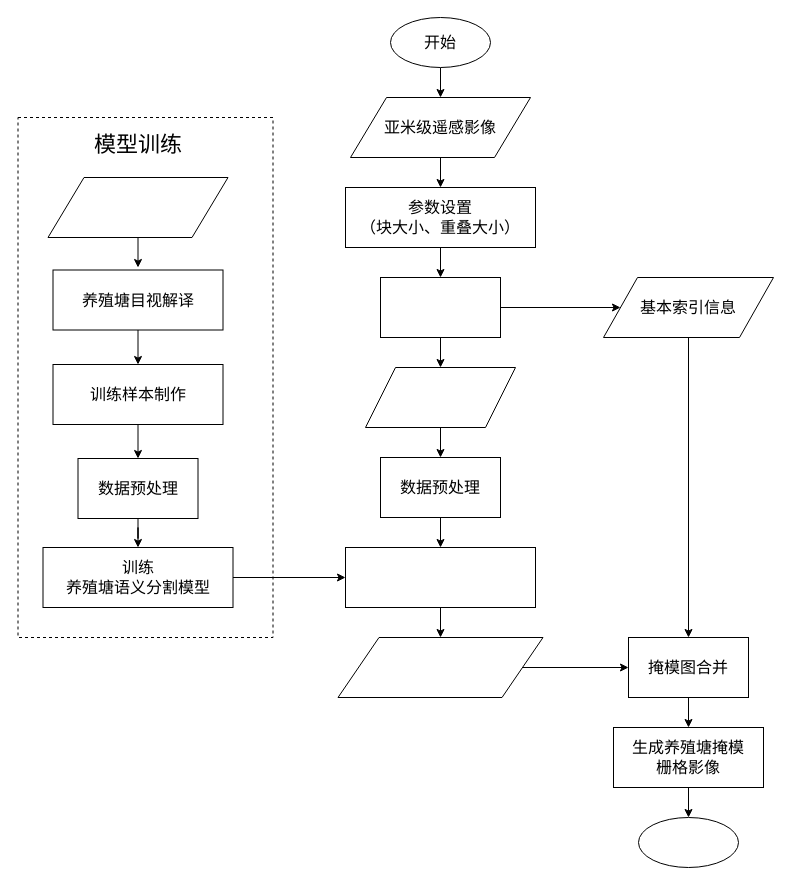
Image size: 791x885. Some labels were removed from this diagram. Here are the shapes that lost their labels. From the top down, the centre of each, then its label:
At [137,207]: "吉林一号 亚米级遥感影像".
At [440,307]: "裁剪分块".
At [440,397]: "遥感影像块".
At [440,577]: "养殖塘语义分割模型".
At [440,667]: "遥感影像块养殖塘 二值掩模图".
At [688,842]: "结束".
